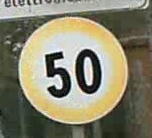limite 50: (16, 17, 132, 126)
